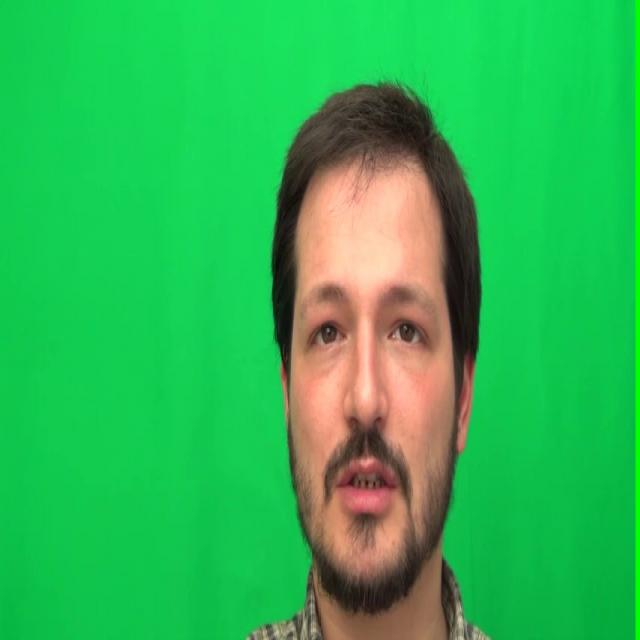Engaged: (280, 167, 450, 601)
